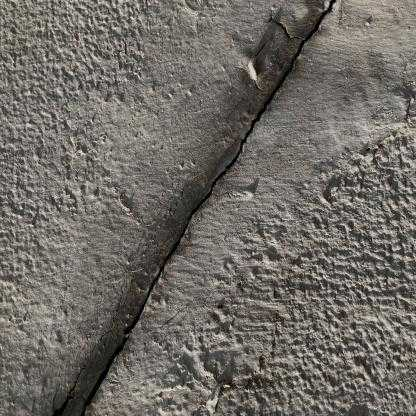crack: (80, 0, 336, 416)
